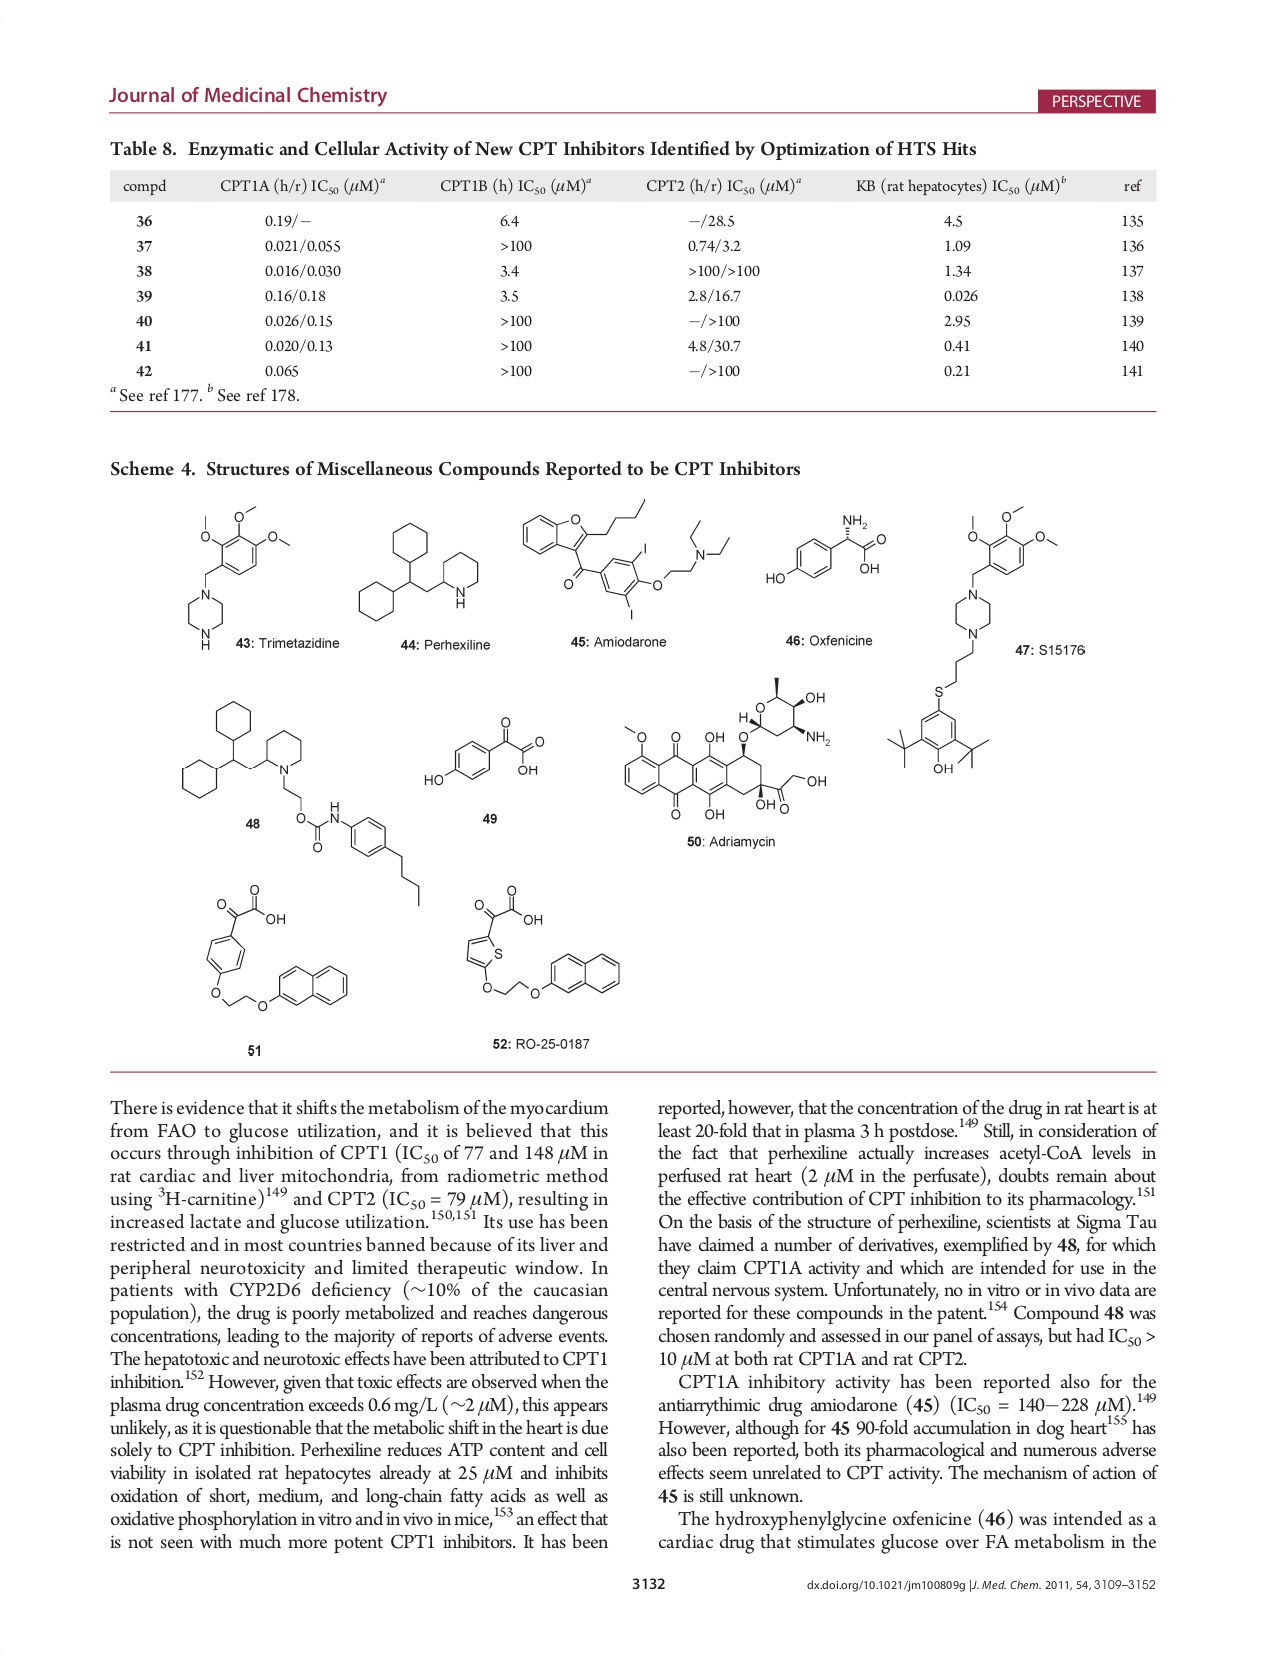exist_molecular: (180, 698, 424, 908), (884, 505, 1061, 777), (618, 674, 832, 822), (519, 497, 730, 622), (205, 882, 354, 1015), (461, 882, 622, 1001), (185, 503, 293, 654), (355, 520, 481, 625), (761, 512, 887, 590), (422, 715, 549, 789)
